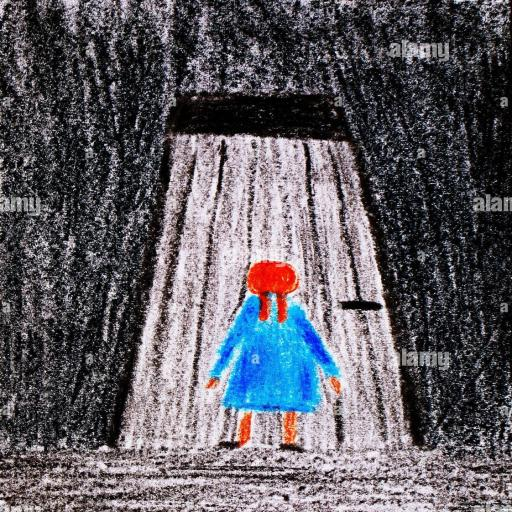person: (206, 260, 342, 452)
